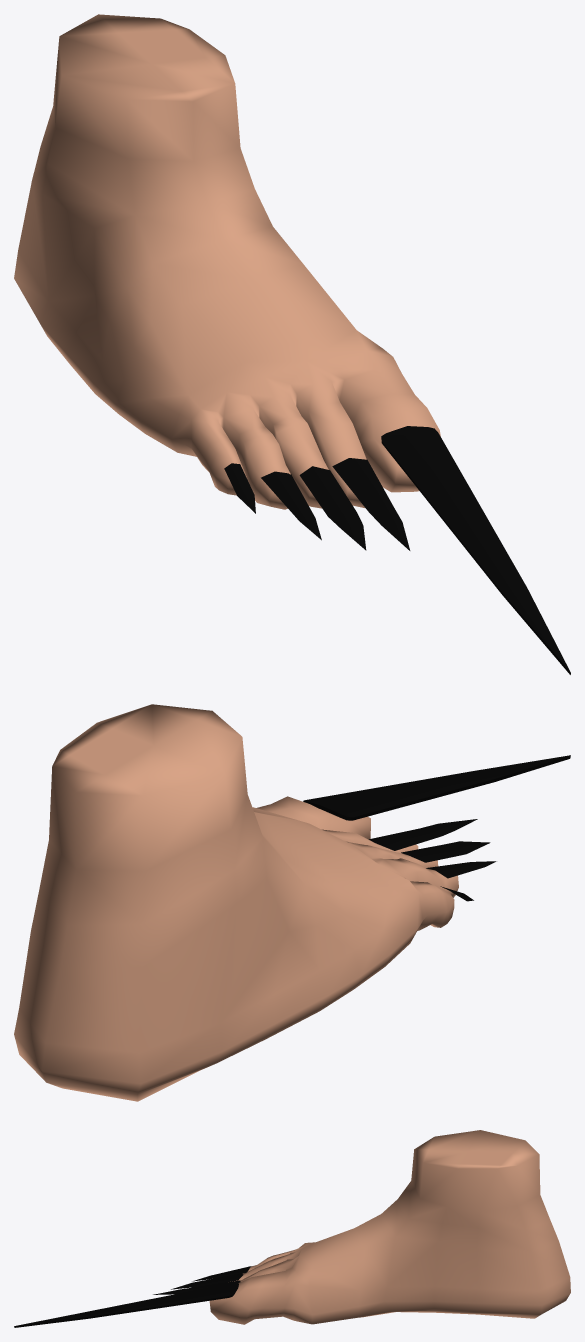
File: knife5.fbx
The picture shows the model from 3 angles, top to bottom: view 1: azimuth 30°, elevation 25°; view 2: azimuth 150°, elevation 25°; view 3: azimuth 270°, elevation 25°; orthographic projection. The views are drawn at different scales.
Parts seen in each view (by area): view 1: knife5.003, knife5.001, knife5.004, knife5, knife5.002; view 2: knife5.003, knife5.001, knife5.004, knife5, knife5.002; view 3: knife5.003, knife5.001, knife5, knife5.004.
Boxes of the visible parts, x1,y1,x2,y2 form: knife5.003: (14,14,440,509); knife5.001: (381,426,570,674); knife5.004: (332,458,410,550); knife5: (299,466,366,550); knife5.002: (261,471,321,540); knife5.003: (14,704,458,1101); knife5.001: (303,755,570,820); knife5.004: (368,819,477,850); knife5: (401,841,490,862); knife5.002: (426,861,496,878); knife5.003: (209,1130,570,1324); knife5.001: (14,1282,238,1327); knife5: (171,1273,243,1289); knife5.004: (153,1280,240,1294).
Bounding box in the file's own units: 512 × 698 × 2025.
